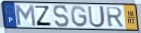G: (70, 5, 89, 28)
M: (14, 4, 38, 28)
R: (105, 7, 125, 28)
S: (53, 4, 71, 29)
U: (87, 5, 107, 29)
Z: (34, 5, 53, 27)
